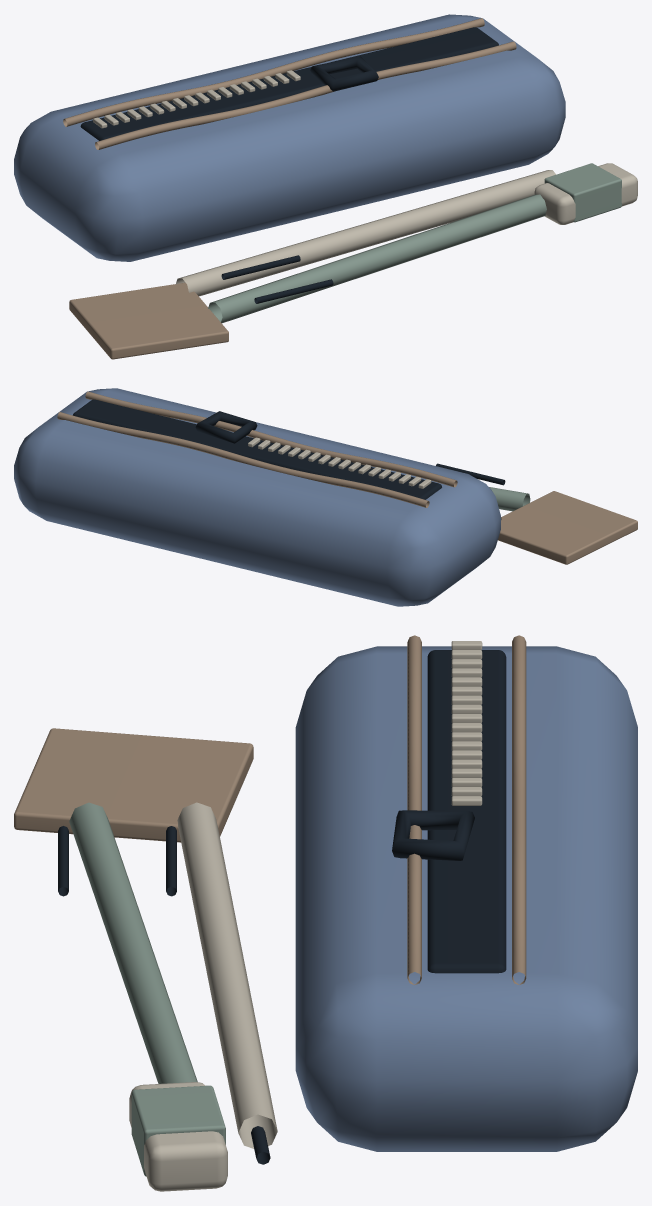
Rendered from room-study-tools.glb.
3 views of the same model, one above another, from view 1: azimuth 30°, elevation 25°; view 2: azimuth 150°, elevation 25°; view 3: azimuth 270°, elevation 25° (orthographic). The views are drawn at different scales.
Visible parts, largest first — view 1: room-study-tools-fabric, room-study-tools-wood, room-study-tools-linen, room-study-tools-sage, room-study-tools-coal; view 2: room-study-tools-fabric, room-study-tools-wood, room-study-tools-coal, room-study-tools-linen, room-study-tools-sage; view 3: room-study-tools-fabric, room-study-tools-wood, room-study-tools-coal, room-study-tools-linen, room-study-tools-sage.
Boxes of the visible parts, left/top/right/bottom form: room-study-tools-fabric: left=14, top=14, right=565, bottom=261; room-study-tools-wood: left=63, top=18, right=516, bottom=359; room-study-tools-linen: left=93, top=70, right=637, bottom=296; room-study-tools-sage: left=208, top=163, right=621, bottom=323; room-study-tools-coal: left=80, top=27, right=498, bottom=303; room-study-tools-fabric: left=14, top=388, right=500, bottom=606; room-study-tools-wood: left=57, top=391, right=637, bottom=564; room-study-tools-coal: left=73, top=399, right=505, bottom=499; room-study-tools-linen: left=248, top=437, right=501, bottom=520; room-study-tools-sage: left=489, top=487, right=530, bottom=511; room-study-tools-fabric: left=295, top=646, right=637, bottom=1151; room-study-tools-wood: left=14, top=635, right=526, bottom=985; room-study-tools-coal: left=58, top=650, right=506, bottom=1164; room-study-tools-linen: left=129, top=641, right=482, bottom=1191; room-study-tools-sage: left=69, top=802, right=225, bottom=1176.
Bounding box in the file's own units: 0.5891 × 0.125 × 0.3465.
